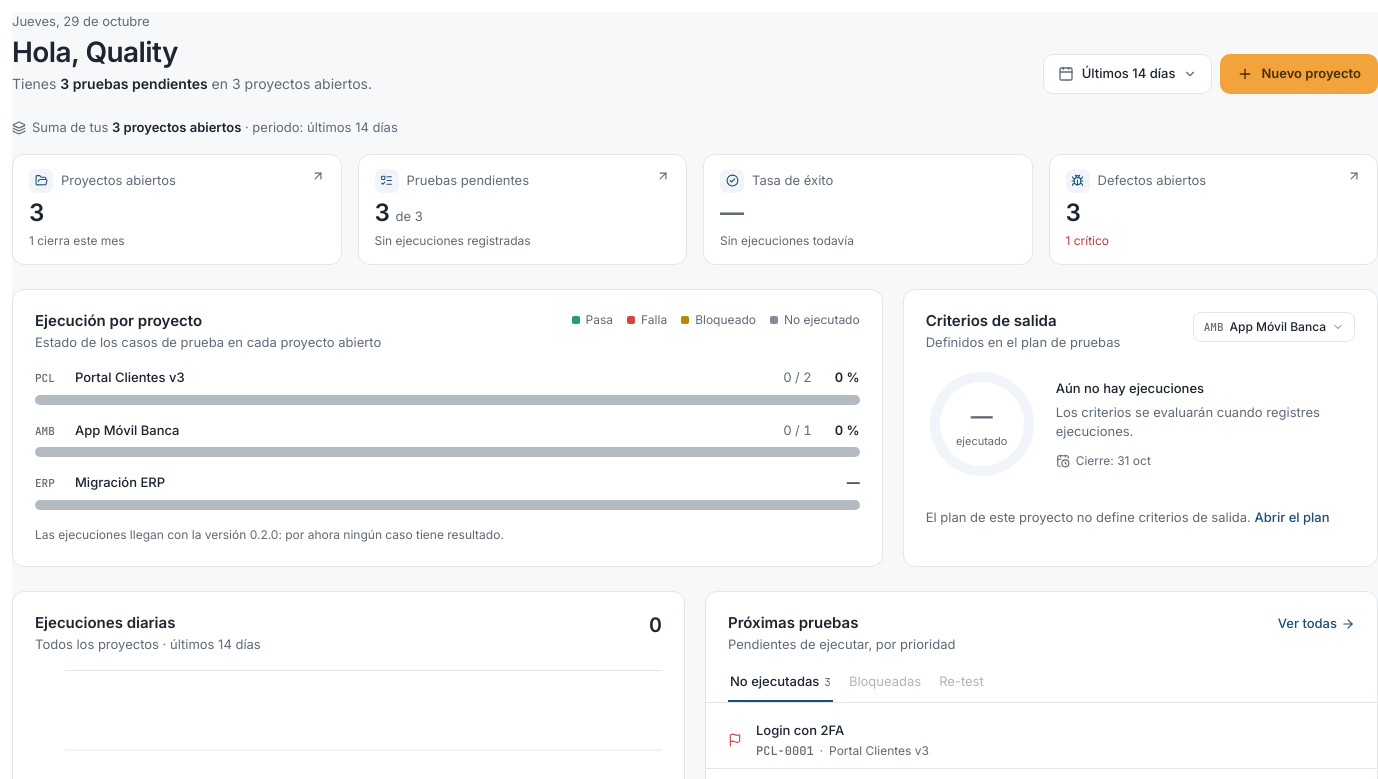
Scenario: Inicio (RED-V1, SPEC §8) › chooses the period from a menu, remembers it and keeps the unavailable ones disabled
The image size is (1378, 779).
Step 1. Click the button with test id "home-period" → (1128, 74), box [1043,54,1212,94]
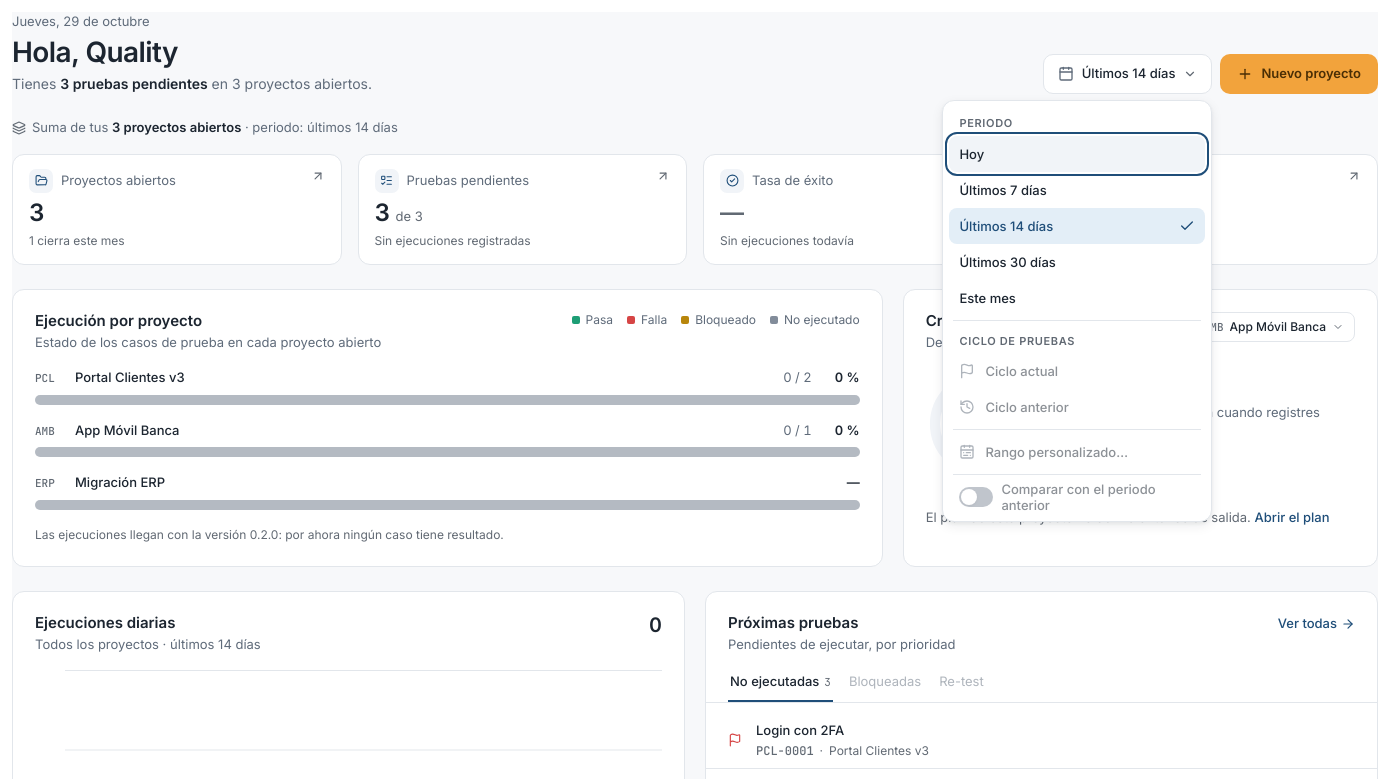
Expected: the menu item "Ciclo actual" is disabled, [949,353,1205,389]
Expected: the menu item with test id "period-compare" is disabled, [949,479,1205,515]
Step 2. Click the menu item "Últimos 7 días" → (1077, 190), box [949,172,1205,208]
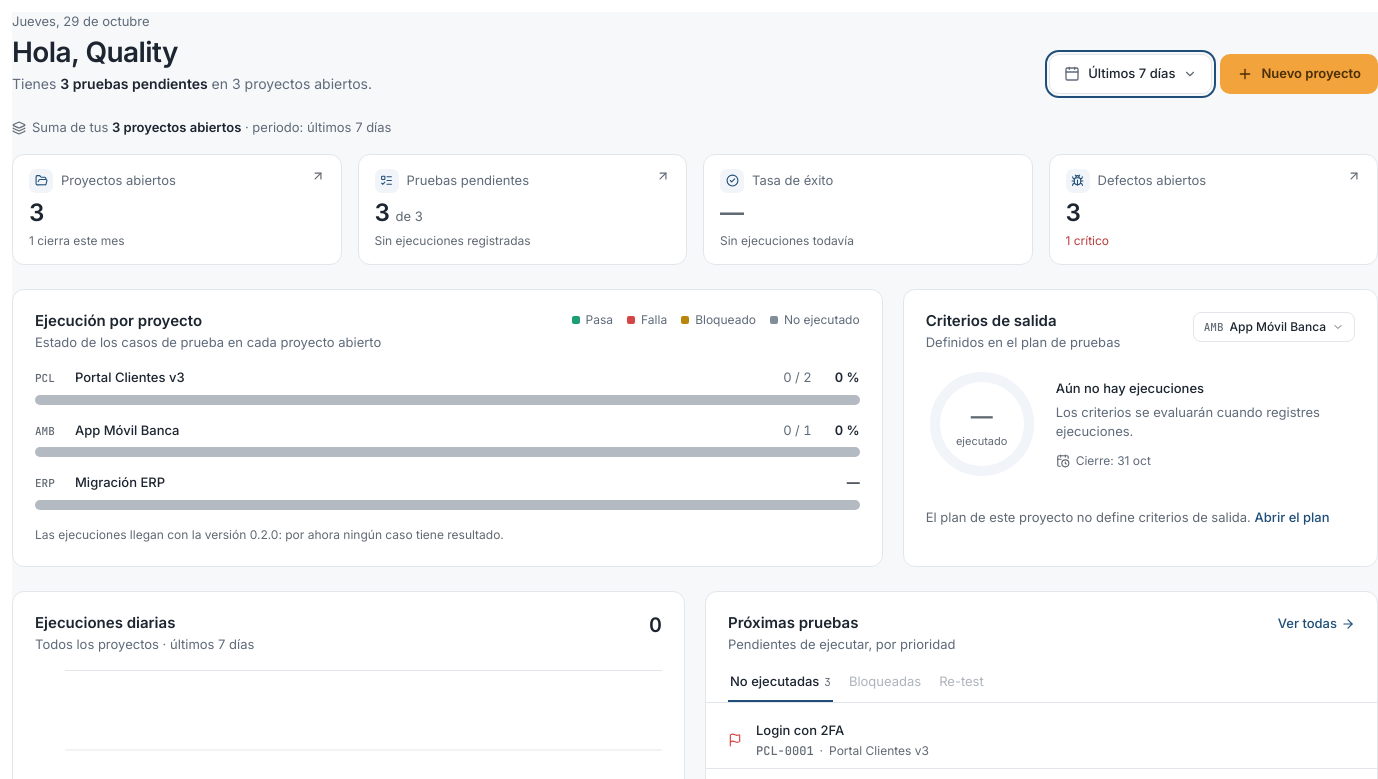
Expected: the button with test id "home-period" reads "Últimos 7 días", [1049,54,1212,94]
